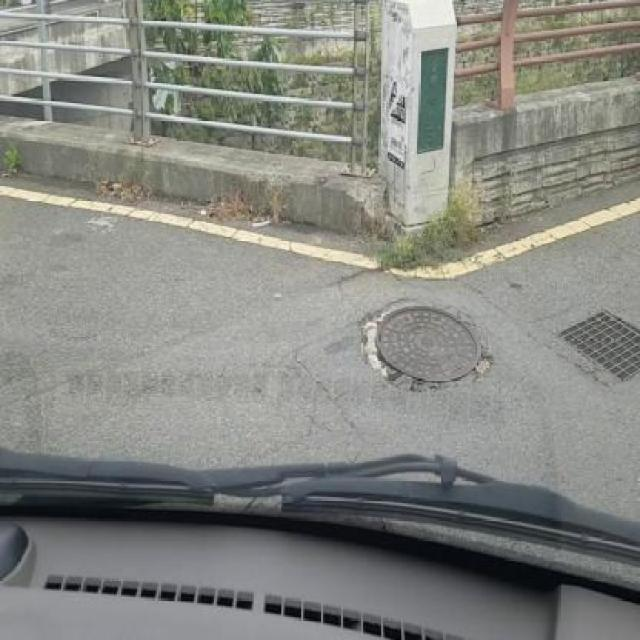Manhole: (357, 300, 495, 396), (557, 303, 640, 412)
